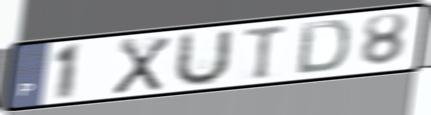1: (52, 41, 87, 103)
8: (357, 13, 411, 70)
D: (293, 18, 352, 76)
T: (242, 22, 290, 82)
U: (170, 27, 236, 90)
X: (110, 35, 174, 97)
